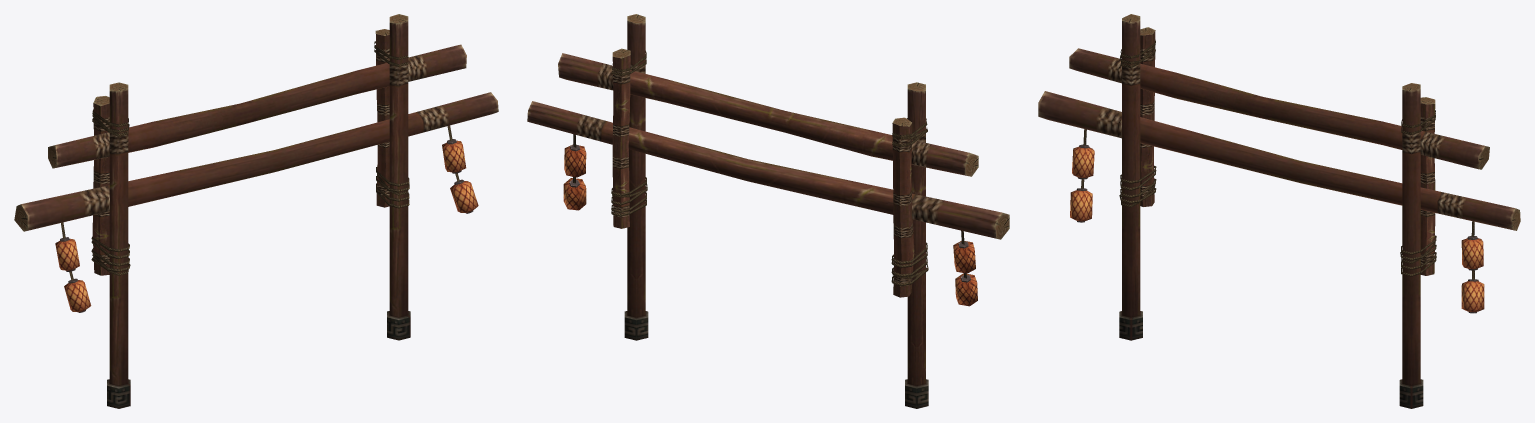
File: ZZL_Item_09.FBX
3 views of the same model, side by side, from view 1: azimuth 30°, elevation 25°; view 2: azimuth 150°, elevation 25°; view 3: azimuth 330°, elevation 25° (orthographic).
Visible parts, largest first — view 1: ZZL_Item_09; view 2: ZZL_Item_09; view 3: ZZL_Item_09.
Part boxes in pixels (bbox=[...]): ZZL_Item_09: bbox=[14, 14, 498, 408]; ZZL_Item_09: bbox=[527, 14, 1009, 408]; ZZL_Item_09: bbox=[1038, 14, 1520, 408].
Bounding box in the file's own units: 2334 × 1493 × 272.
